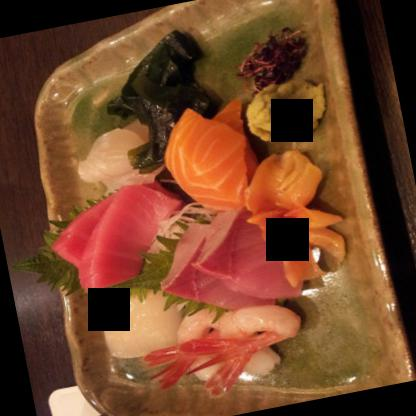salmon: (158, 96, 260, 221)
shrimp: (174, 296, 310, 398)
